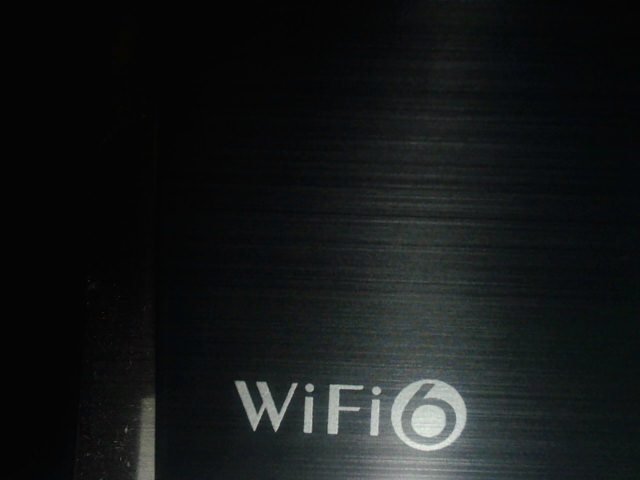AK_ZTEWIFI6Black: (223, 371, 477, 458)
